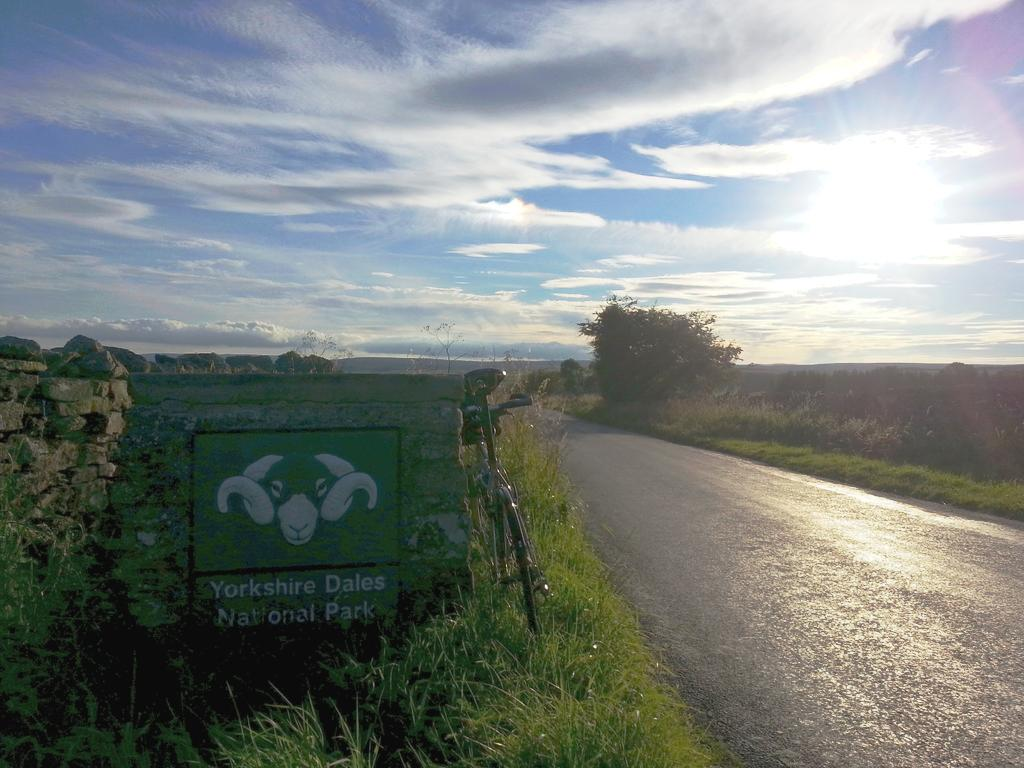Sheep: (214, 452, 379, 549)
